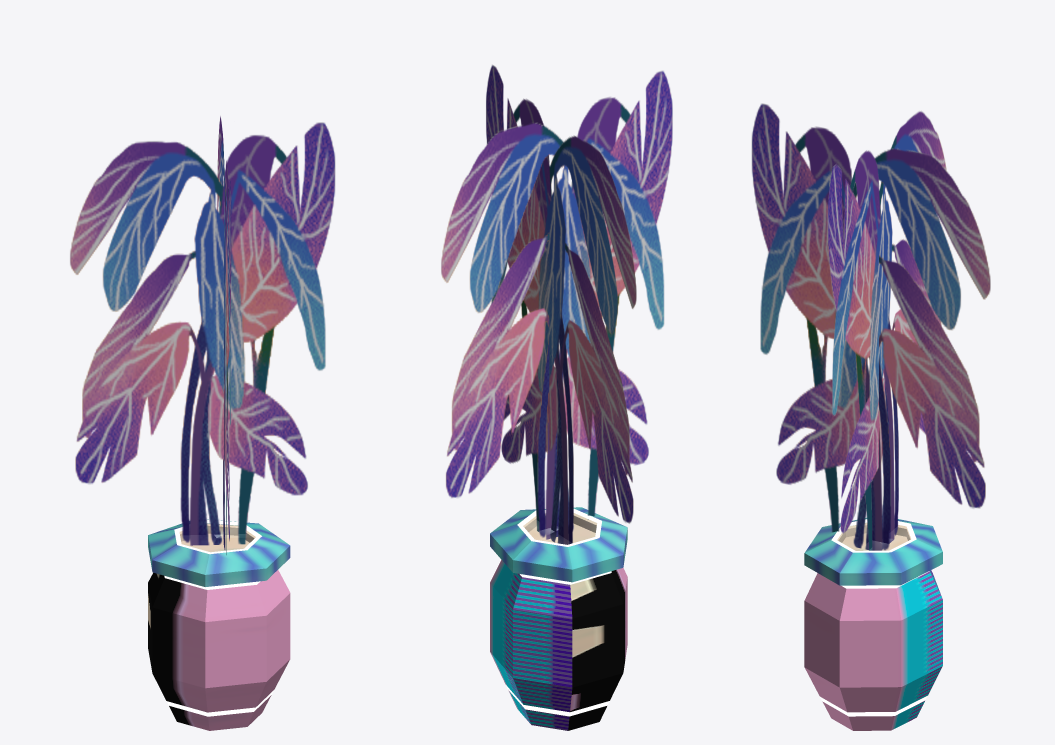
File: Pot_Vapor_05.glb
3 views of the same model, side by side, from view 1: azimuth 30°, elevation 25°; view 2: azimuth 150°, elevation 25°; view 3: azimuth 270°, elevation 25° (orthographic). The views are drawn at different scales.
Parts seen in each view (by area): view 1: Pot_Vapor_05; view 2: Pot_Vapor_05; view 3: Pot_Vapor_05.
Boxes of the visible parts, x1,y1,x2,y2 form: Pot_Vapor_05: (70, 116, 335, 730); Pot_Vapor_05: (441, 64, 672, 730); Pot_Vapor_05: (751, 103, 990, 730).
Bounding box in the file's own units: 1.36 × 2.98 × 1.36.
Materials: 4 (4 with a texture image).
